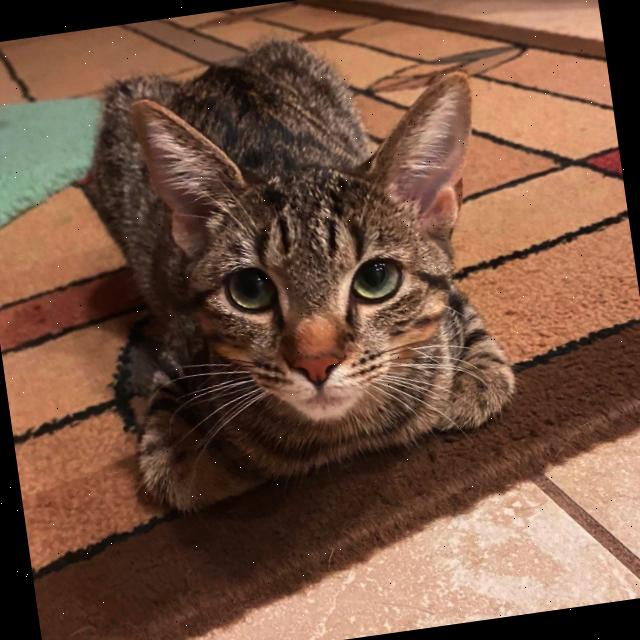american_shorthair_cat: (121, 52, 517, 454)
